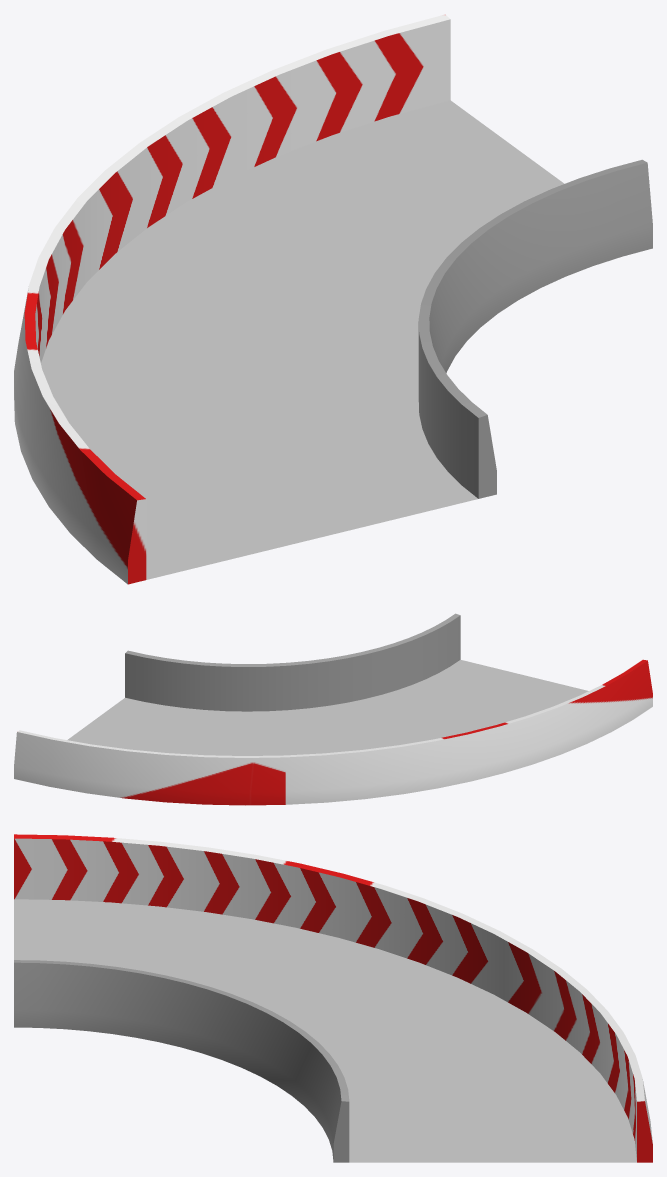
Rendered from RoadBlock_BigCurve_new.fbx.
3 renders of one model, top to bottom at view 1: azimuth 30°, elevation 25°; view 2: azimuth 150°, elevation 25°; view 3: azimuth 270°, elevation 25°, orthographic. The views are drawn at different scales.
Visible parts, largest first — view 1: Road_BigCurve; view 2: Road_BigCurve; view 3: Road_BigCurve.
Boxes of the visible parts, x1,y1,x2,y2 form: Road_BigCurve: (14, 14, 652, 584); Road_BigCurve: (14, 613, 652, 805); Road_BigCurve: (14, 834, 652, 1162).
Bounding box in the file's own units: 400 × 42.43 × 400.
